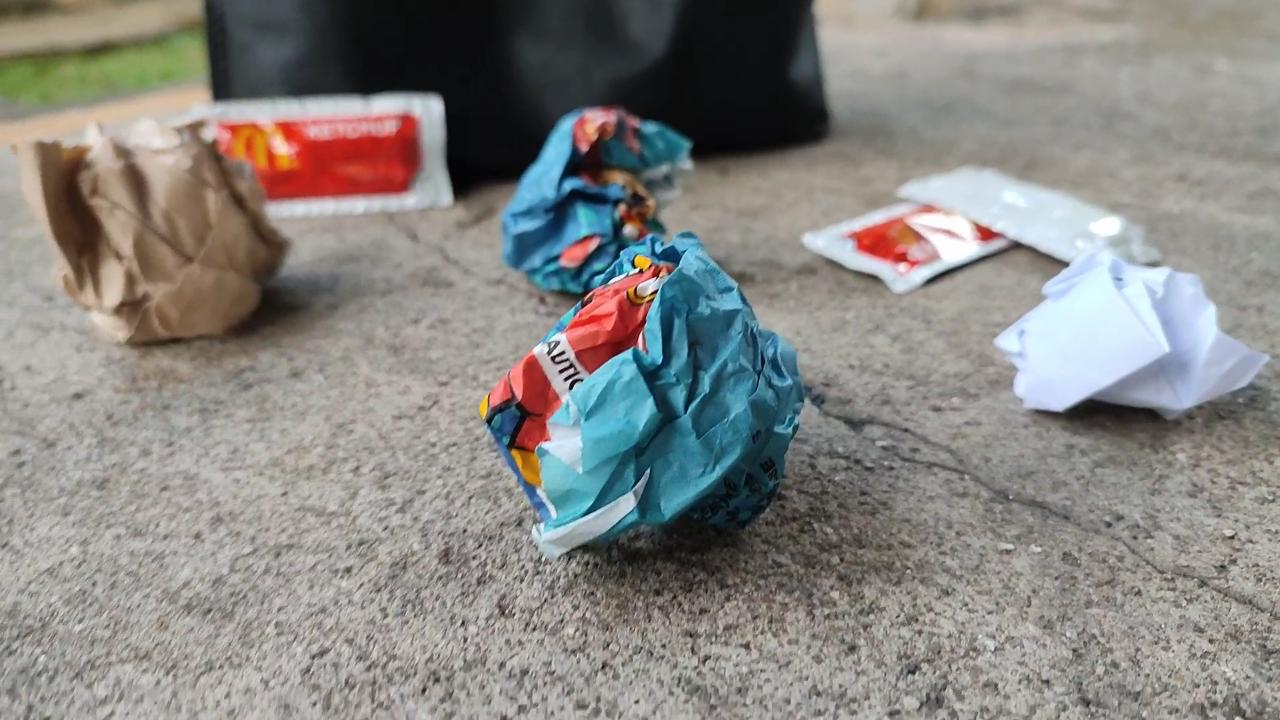Paper: (477, 234, 808, 572), (11, 100, 306, 364), (1001, 240, 1275, 432), (497, 104, 693, 303)
